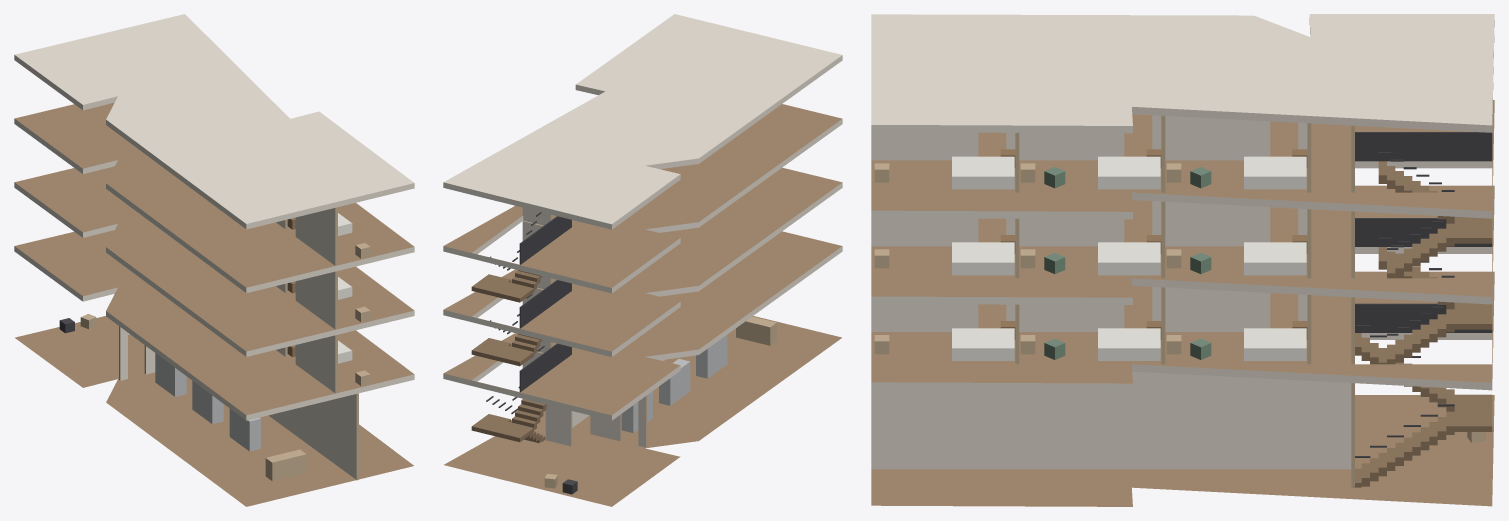
File: interior.glb
3 views of the same model, side by side, from view 1: azimuth 30°, elevation 25°; view 2: azimuth 150°, elevation 25°; view 3: azimuth 270°, elevation 25° (orthographic). The views are drawn at different scales.
Parts seen in each view (by area): view 1: slabs, partitions, coarse-s0, coarse-s1, coarse-s2, coarse-s3; view 2: slabs, stair, coarse-s0, partitions; view 3: slabs, partitions, stair, coarse-s3, coarse-s2, coarse-s1.
Part boxes in pixels (x1,y1,x2,y2): slabs: (14, 14, 414, 506); partitions: (119, 207, 358, 480); coarse-s0: (59, 314, 306, 480); coarse-s1: (287, 340, 370, 385); coarse-s2: (287, 277, 370, 322); coarse-s3: (287, 213, 370, 258); slabs: (443, 14, 842, 506); stair: (471, 212, 571, 442); coarse-s0: (544, 316, 776, 494); partitions: (522, 207, 665, 447); slabs: (871, 14, 1494, 506); partitions: (871, 115, 1354, 487); stair: (1353, 132, 1492, 487); coarse-s3: (874, 149, 1307, 189); coarse-s2: (874, 235, 1307, 275); coarse-s1: (874, 321, 1307, 360).
Size of the model in its own units: 8.47 by 13.44 by 19.9.
